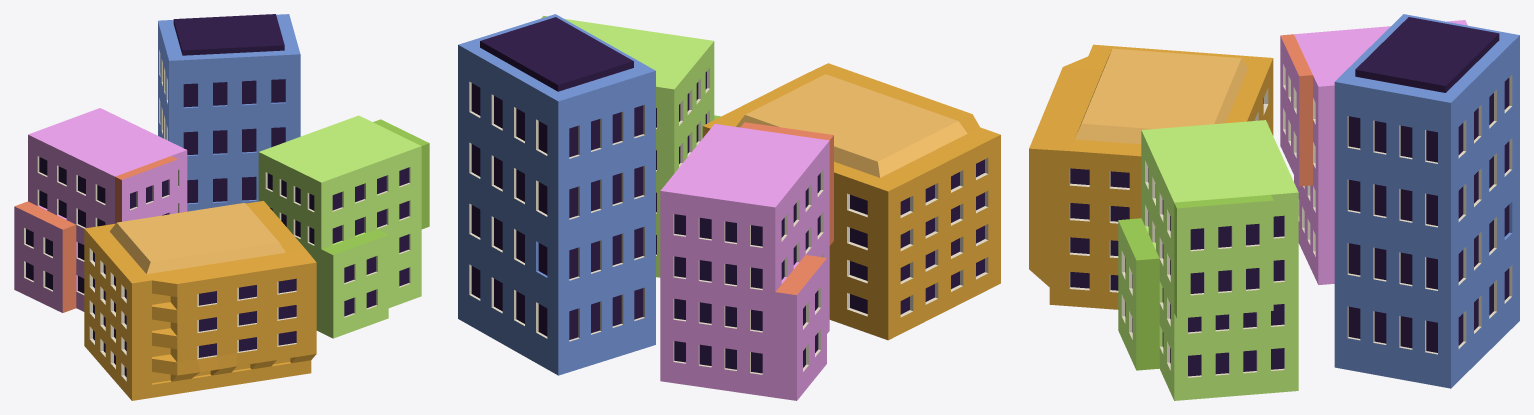
Rendered from M_OfficeTile_Var3.fbx.
The picture shows the model from 3 angles, left to right: view 1: azimuth 30°, elevation 25°; view 2: azimuth 150°, elevation 25°; view 3: azimuth 270°, elevation 25°; orthographic projection. The views are drawn at different scales.
Parts seen in each view (by area): view 1: pCube8; view 2: pCube8; view 3: pCube8.
Part boxes in pixels (<box>): pCube8: <box>14,14,429,400</box>; pCube8: <box>458,14,1000,400</box>; pCube8: <box>1029,14,1519,400</box>.
Size of the model in its own units: 1.47 by 0.9424 by 1.43.
1 material, 1 textured.
